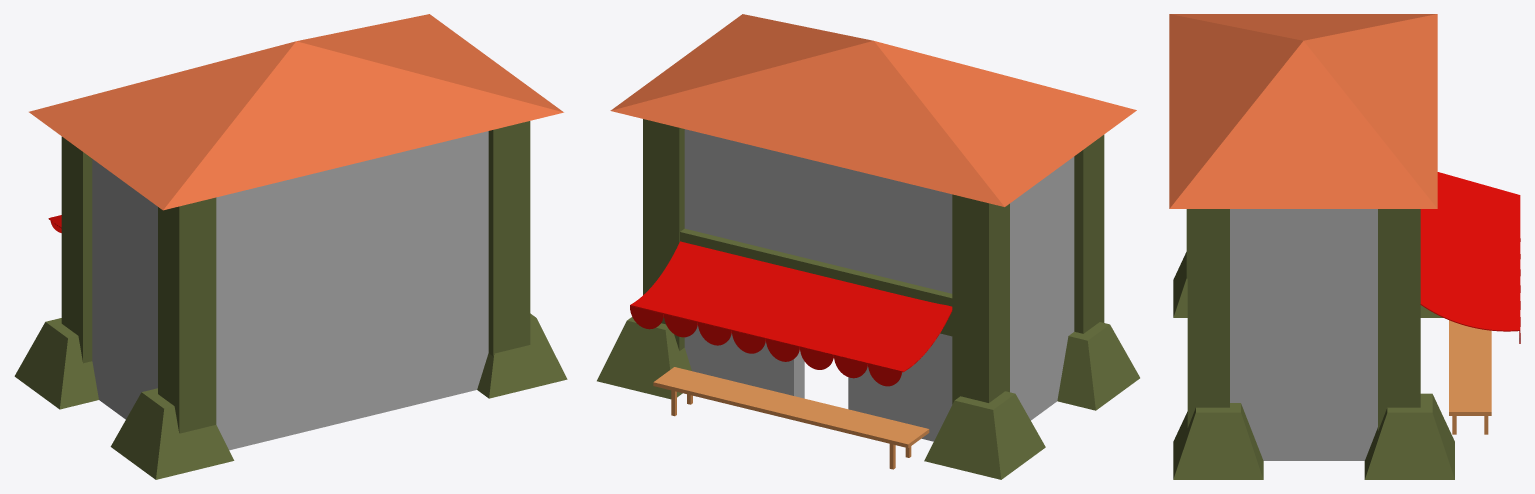
File: store1Output.fbx
3 renders of one model, left to right at view 1: azimuth 30°, elevation 25°; view 2: azimuth 150°, elevation 25°; view 3: azimuth 270°, elevation 25°, orthographic.
Visible parts, largest first — view 1: Cylinder; view 2: Cylinder, Cube; view 3: Cylinder, Cube.
Boxes of the visible parts, x1=… form: Cylinder: x1=14, y1=14, x2=567, y2=479; Cylinder: x1=597, y1=14, x2=1139, y2=479; Cube: x1=653, y1=367, x2=929, y2=469; Cylinder: x1=1169, y1=14, x2=1520, y2=479; Cube: x1=1449, y1=320, x2=1491, y2=434.
Size of the model in its own units: 2224 by 1759 by 1650.
